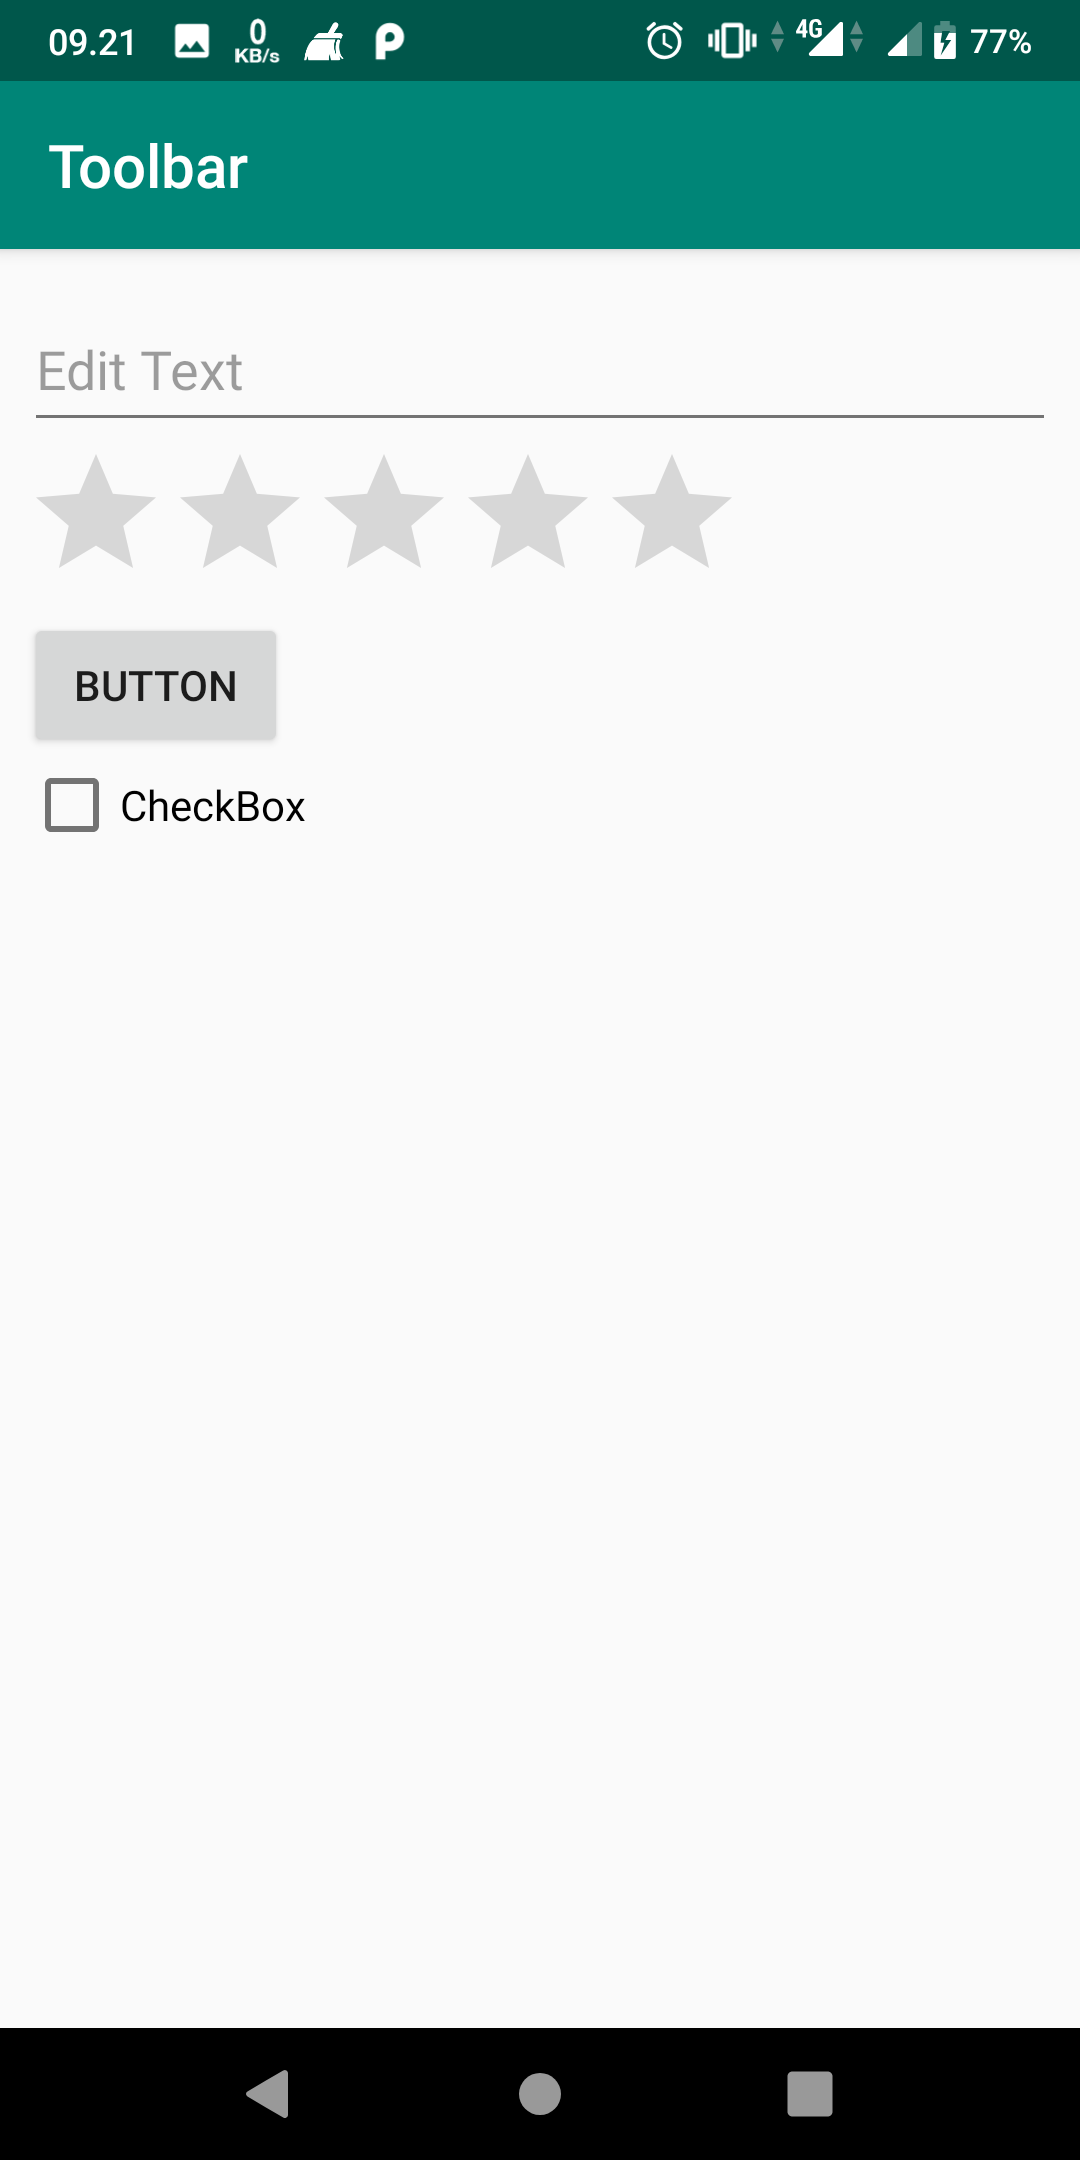button: (25, 619, 280, 751)
checkBox: (39, 767, 315, 851)
editText: (19, 331, 1061, 435)
ratingBar: (32, 444, 744, 590)
toolbar: (3, 80, 1080, 247)
